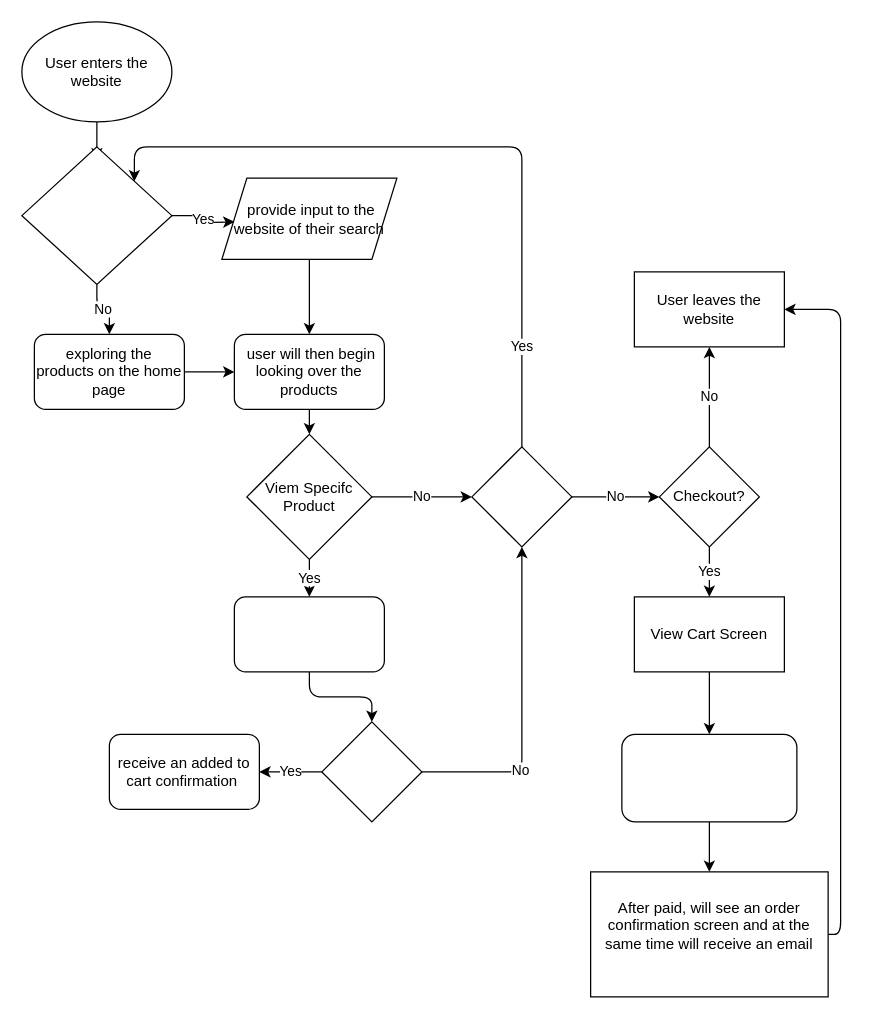
This 873x1019 diagram has some shape labels left out. Each missing label, with the box of its shape:
Add to cart: (321, 721, 422, 822)
Continue shopping?: (471, 446, 572, 547)
Products webpage opens: (233, 596, 384, 672)
searching for a product: (21, 146, 172, 284)
View Payment Screen: (621, 733, 797, 822)
